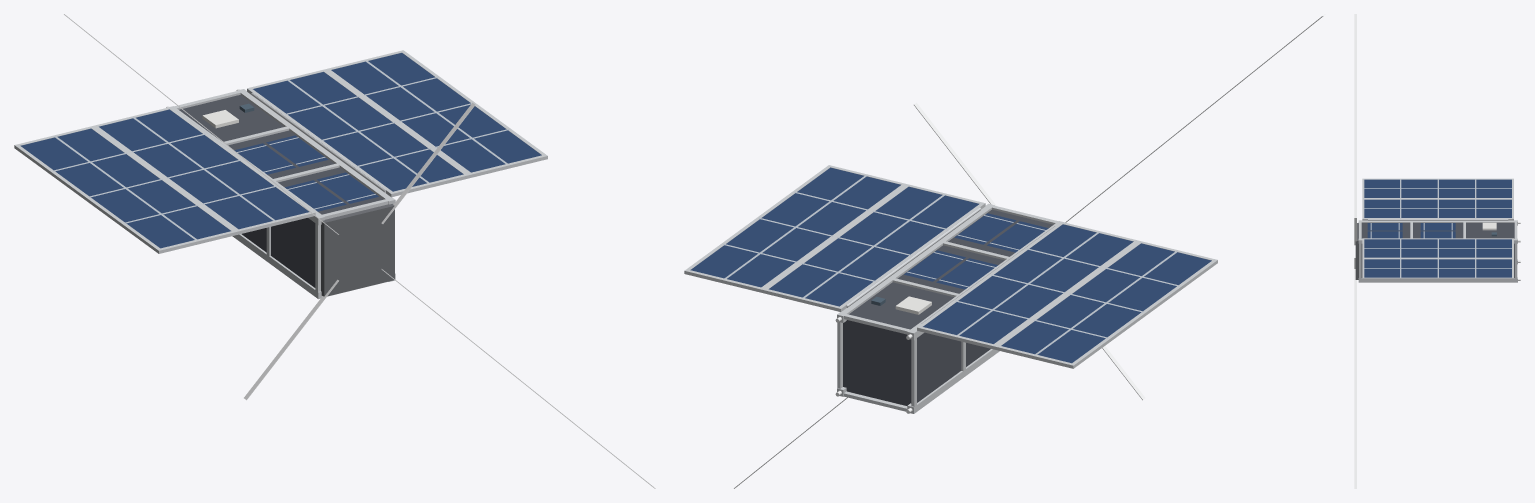
Rendered from satellite-cubesat.glb.
3 views of the same model, side by side, from view 1: azimuth 30°, elevation 25°; view 2: azimuth 150°, elevation 25°; view 3: azimuth 270°, elevation 25° (orthographic). The views are drawn at different scales.
Visible parts, largest first — view 1: satellite-cubesat; view 2: satellite-cubesat; view 3: satellite-cubesat.
Part boxes in pixels (x1=…): satellite-cubesat: x1=14, y1=14, x2=655, y2=488; satellite-cubesat: x1=684, y1=14, x2=1325, y2=488; satellite-cubesat: x1=1354, y1=14, x2=1520, y2=488.
Bounding box in the file's own units: 0.7642 × 0.7642 × 0.3555.
